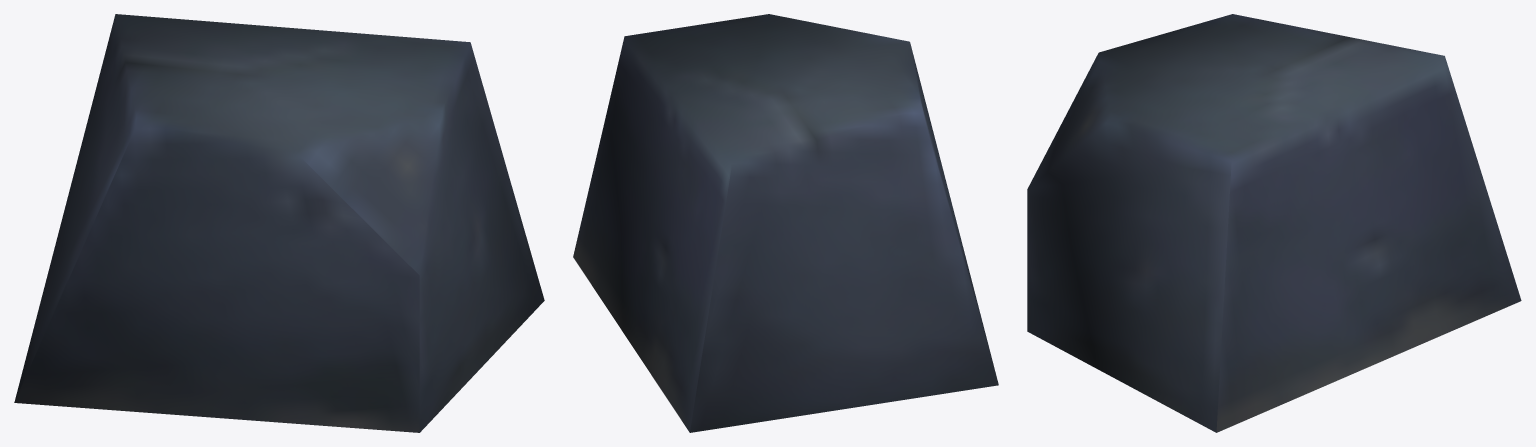
The model's file is Area_03_14.fbx.
The picture shows the model from 3 angles, left to right: view 1: azimuth 30°, elevation 25°; view 2: azimuth 150°, elevation 25°; view 3: azimuth 270°, elevation 25°; orthographic projection. The views are drawn at different scales.
Parts seen in each view (by area): view 1: Area_03_14; view 2: Area_03_14; view 3: Area_03_14.
Part boxes in pixels (x1=…): Area_03_14: x1=14, y1=14, x2=544, y2=432; Area_03_14: x1=573, y1=14, x2=998, y2=432; Area_03_14: x1=1027, y1=14, x2=1521, y2=432.
Size of the model in its own units: 93.06 by 47.48 by 87.47.
